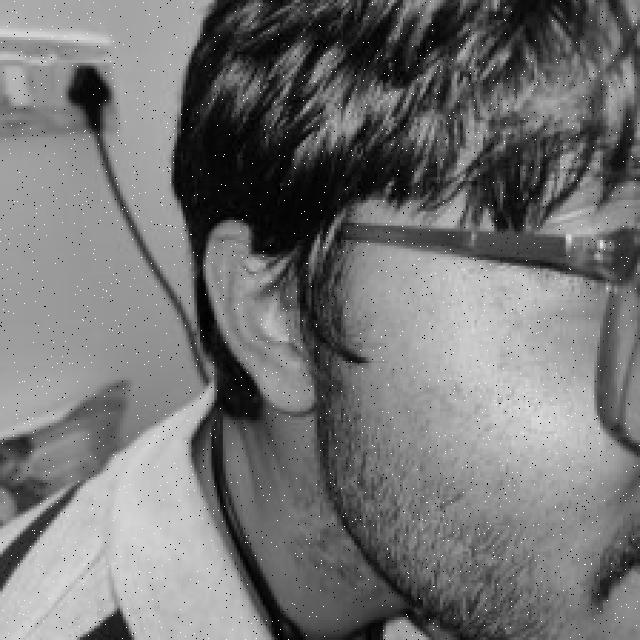ear: (200, 220, 311, 411)
